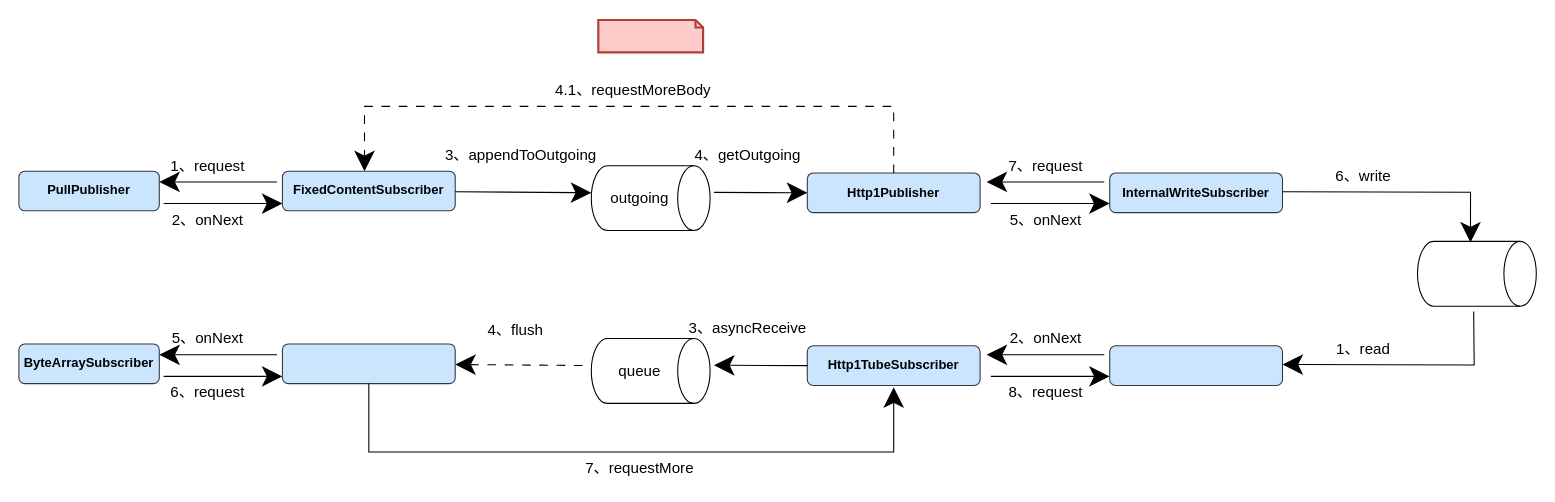
Some shapes in this 1555 by 502 pixel diagram are drawn without their labels. Here are the shapes that lost their labels. From the top down, the centre of each, then its label:
(650,35): 虚线为异步
(1476,273): channel
(368,363): BodyReader
(1195,365): InternalReadPublisher
